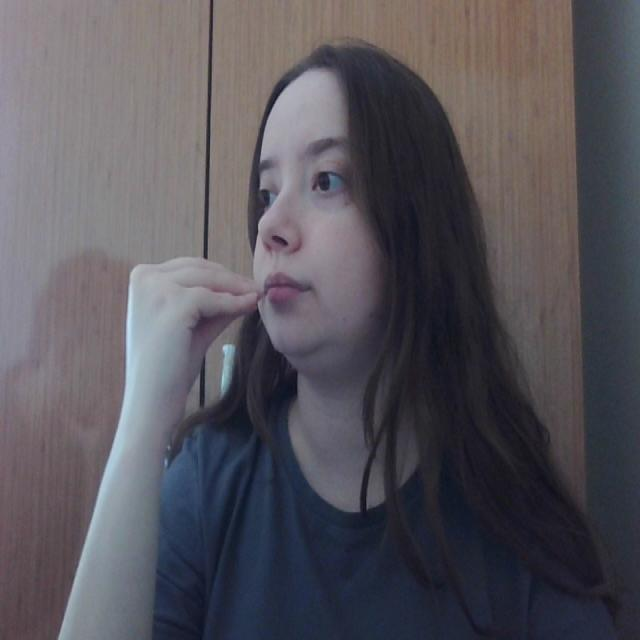Yemek: (122, 252, 316, 327)
